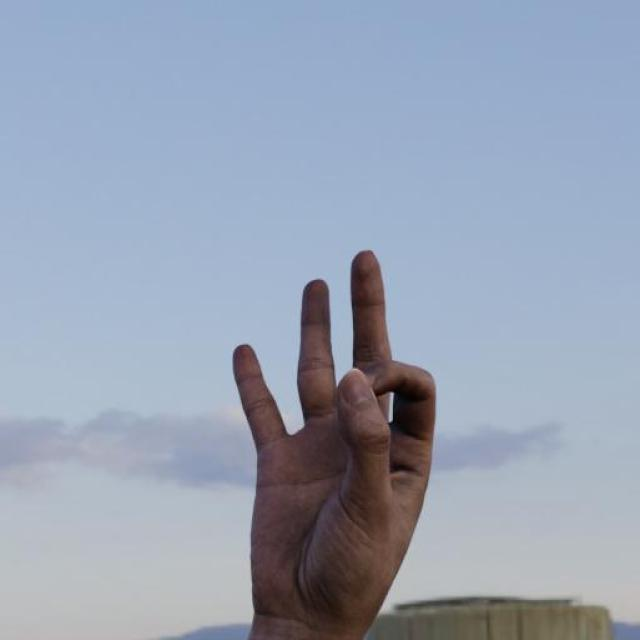F: (232, 246, 442, 629)
